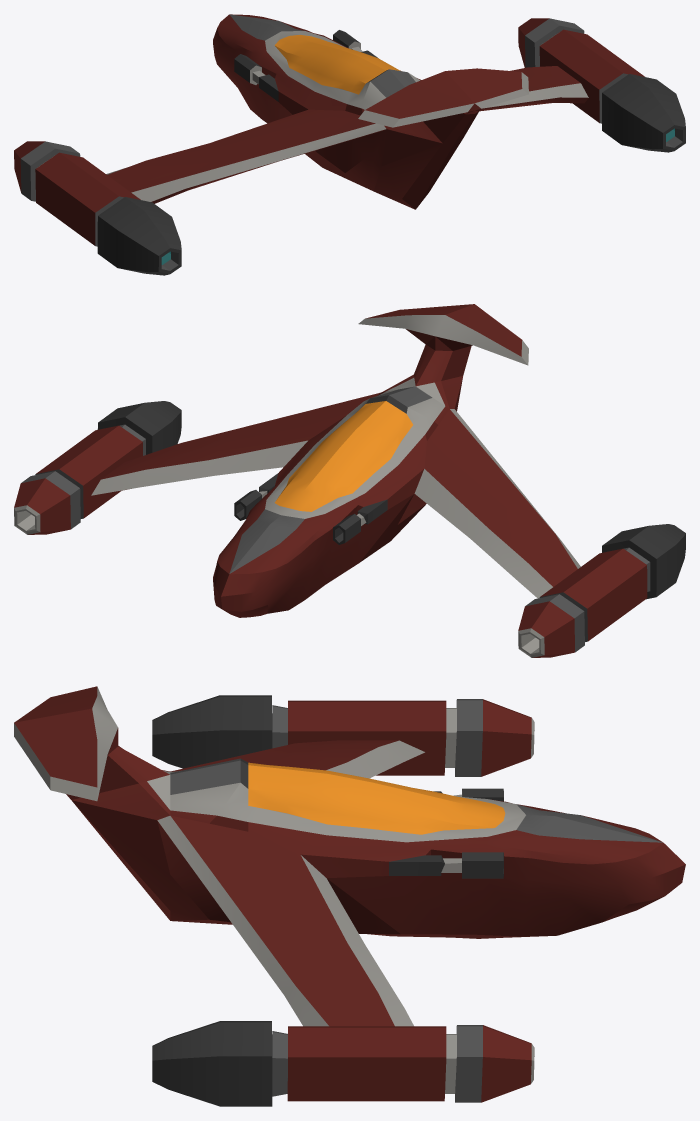
File: BasicEnemyShip V2.glb
The picture shows the model from 3 angles, top to bottom: view 1: azimuth 30°, elevation 25°; view 2: azimuth 150°, elevation 25°; view 3: azimuth 270°, elevation 25°; orthographic projection. The views are drawn at different scales.
Visible parts, largest first — view 1: Ship; view 2: Ship; view 3: Ship.
Part boxes in pixels (<box>): Ship: <box>14,14,685,275</box>; Ship: <box>14,304,685,657</box>; Ship: <box>14,686,685,1106</box>.
Bounding box in the file's own units: 16.4 × 4.95 × 12.9.
